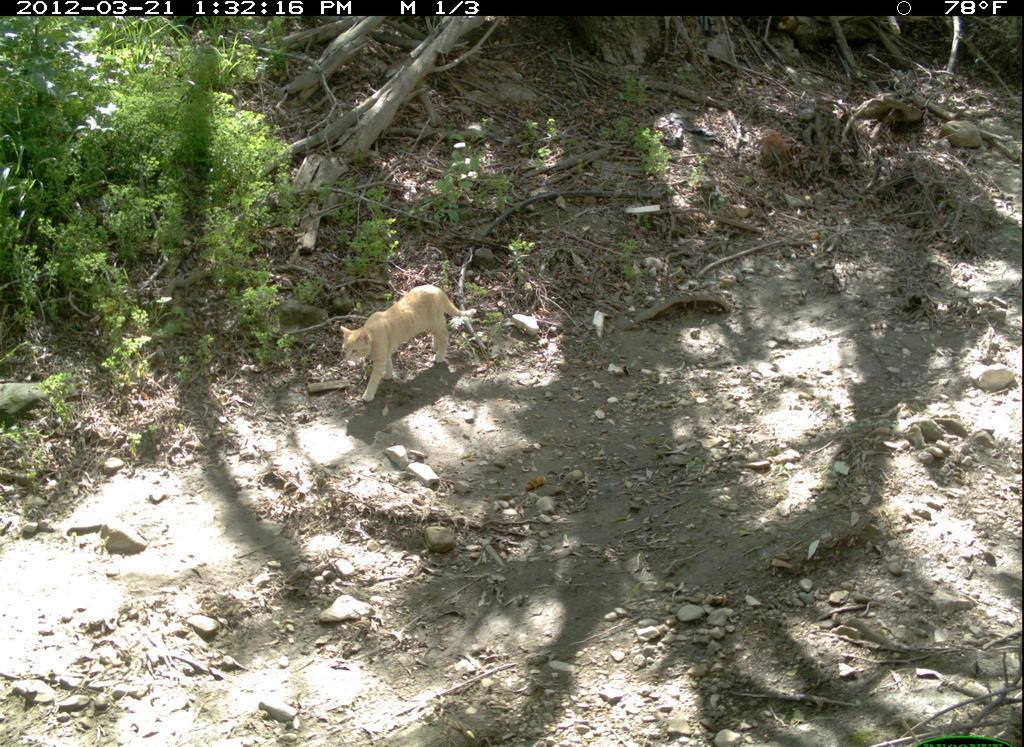cat: (318, 272, 482, 440)
